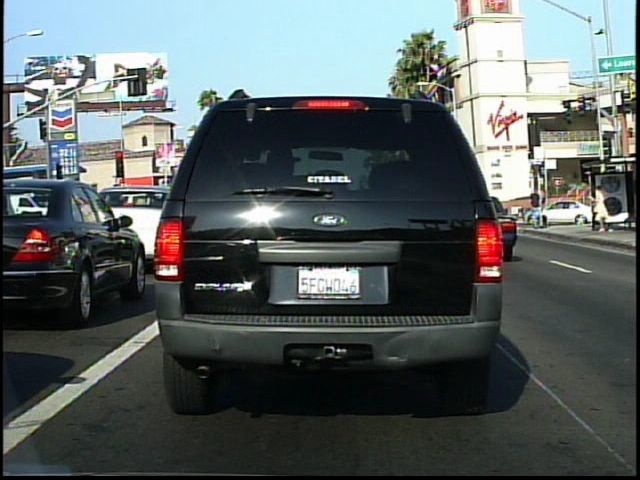person: (589, 182, 613, 234), (527, 186, 547, 232)
